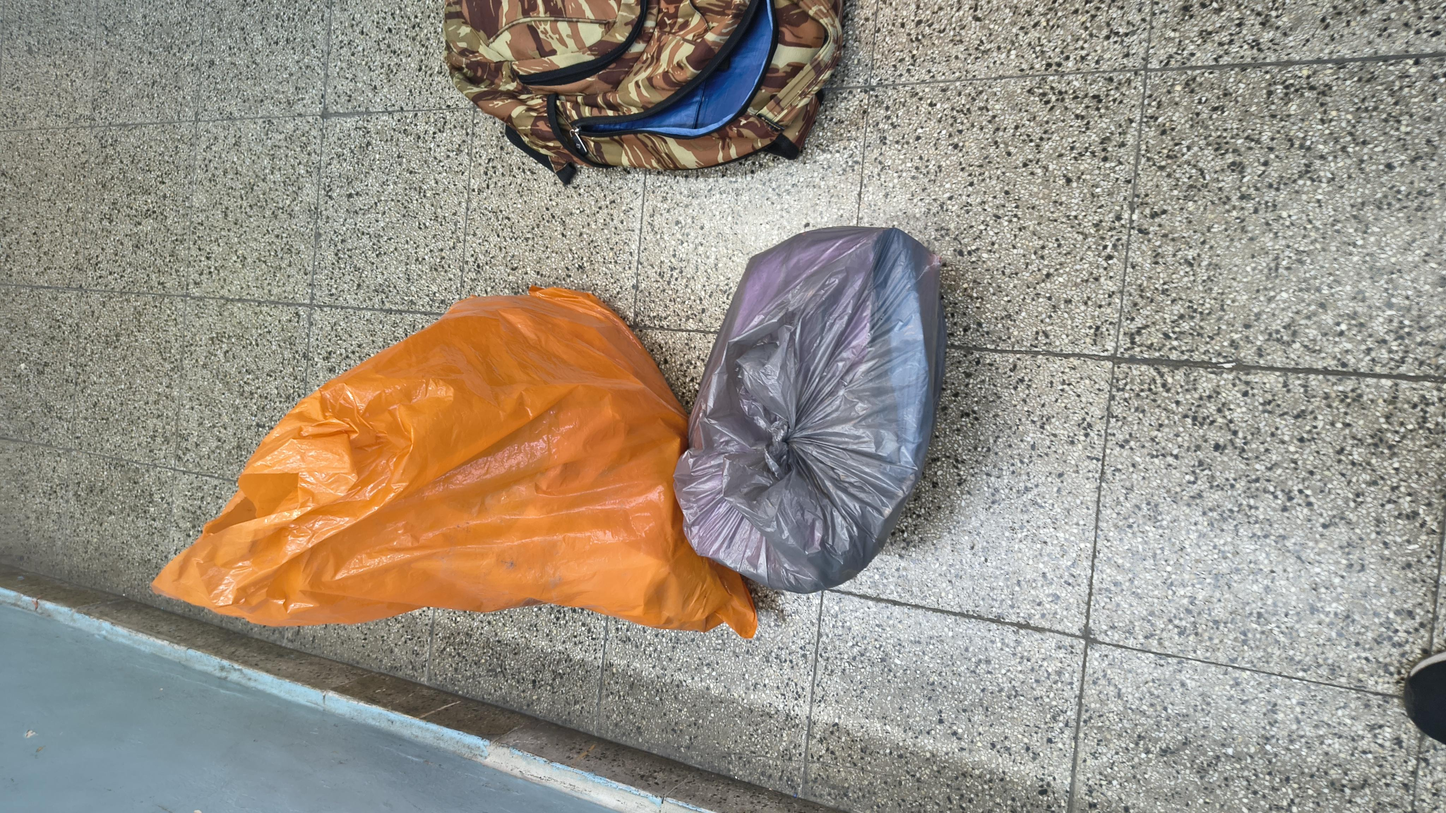Garbage: (264, 75, 985, 425), (383, 365, 1086, 560)
